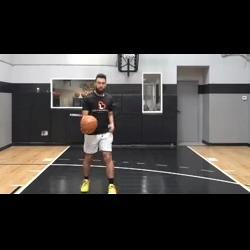BasketBall: (78, 113, 98, 134)
